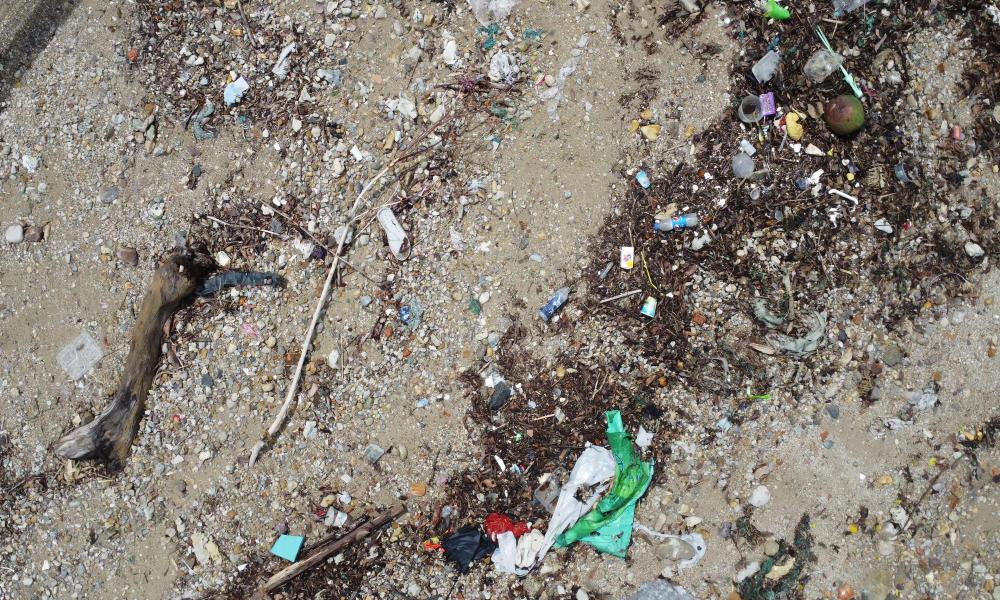carton: (757, 87, 776, 116), (619, 241, 637, 271), (641, 295, 658, 320)
plastic bag: (549, 410, 653, 561), (538, 446, 624, 558), (434, 523, 491, 576), (495, 528, 528, 575), (517, 521, 543, 573), (805, 52, 843, 86), (221, 73, 253, 106), (833, 0, 875, 19)
plastic bottle: (541, 280, 574, 324), (649, 210, 701, 235), (754, 0, 796, 26)
plastic container: (59, 331, 104, 389), (532, 465, 574, 518), (748, 48, 787, 86), (735, 92, 766, 123), (729, 150, 756, 178)
